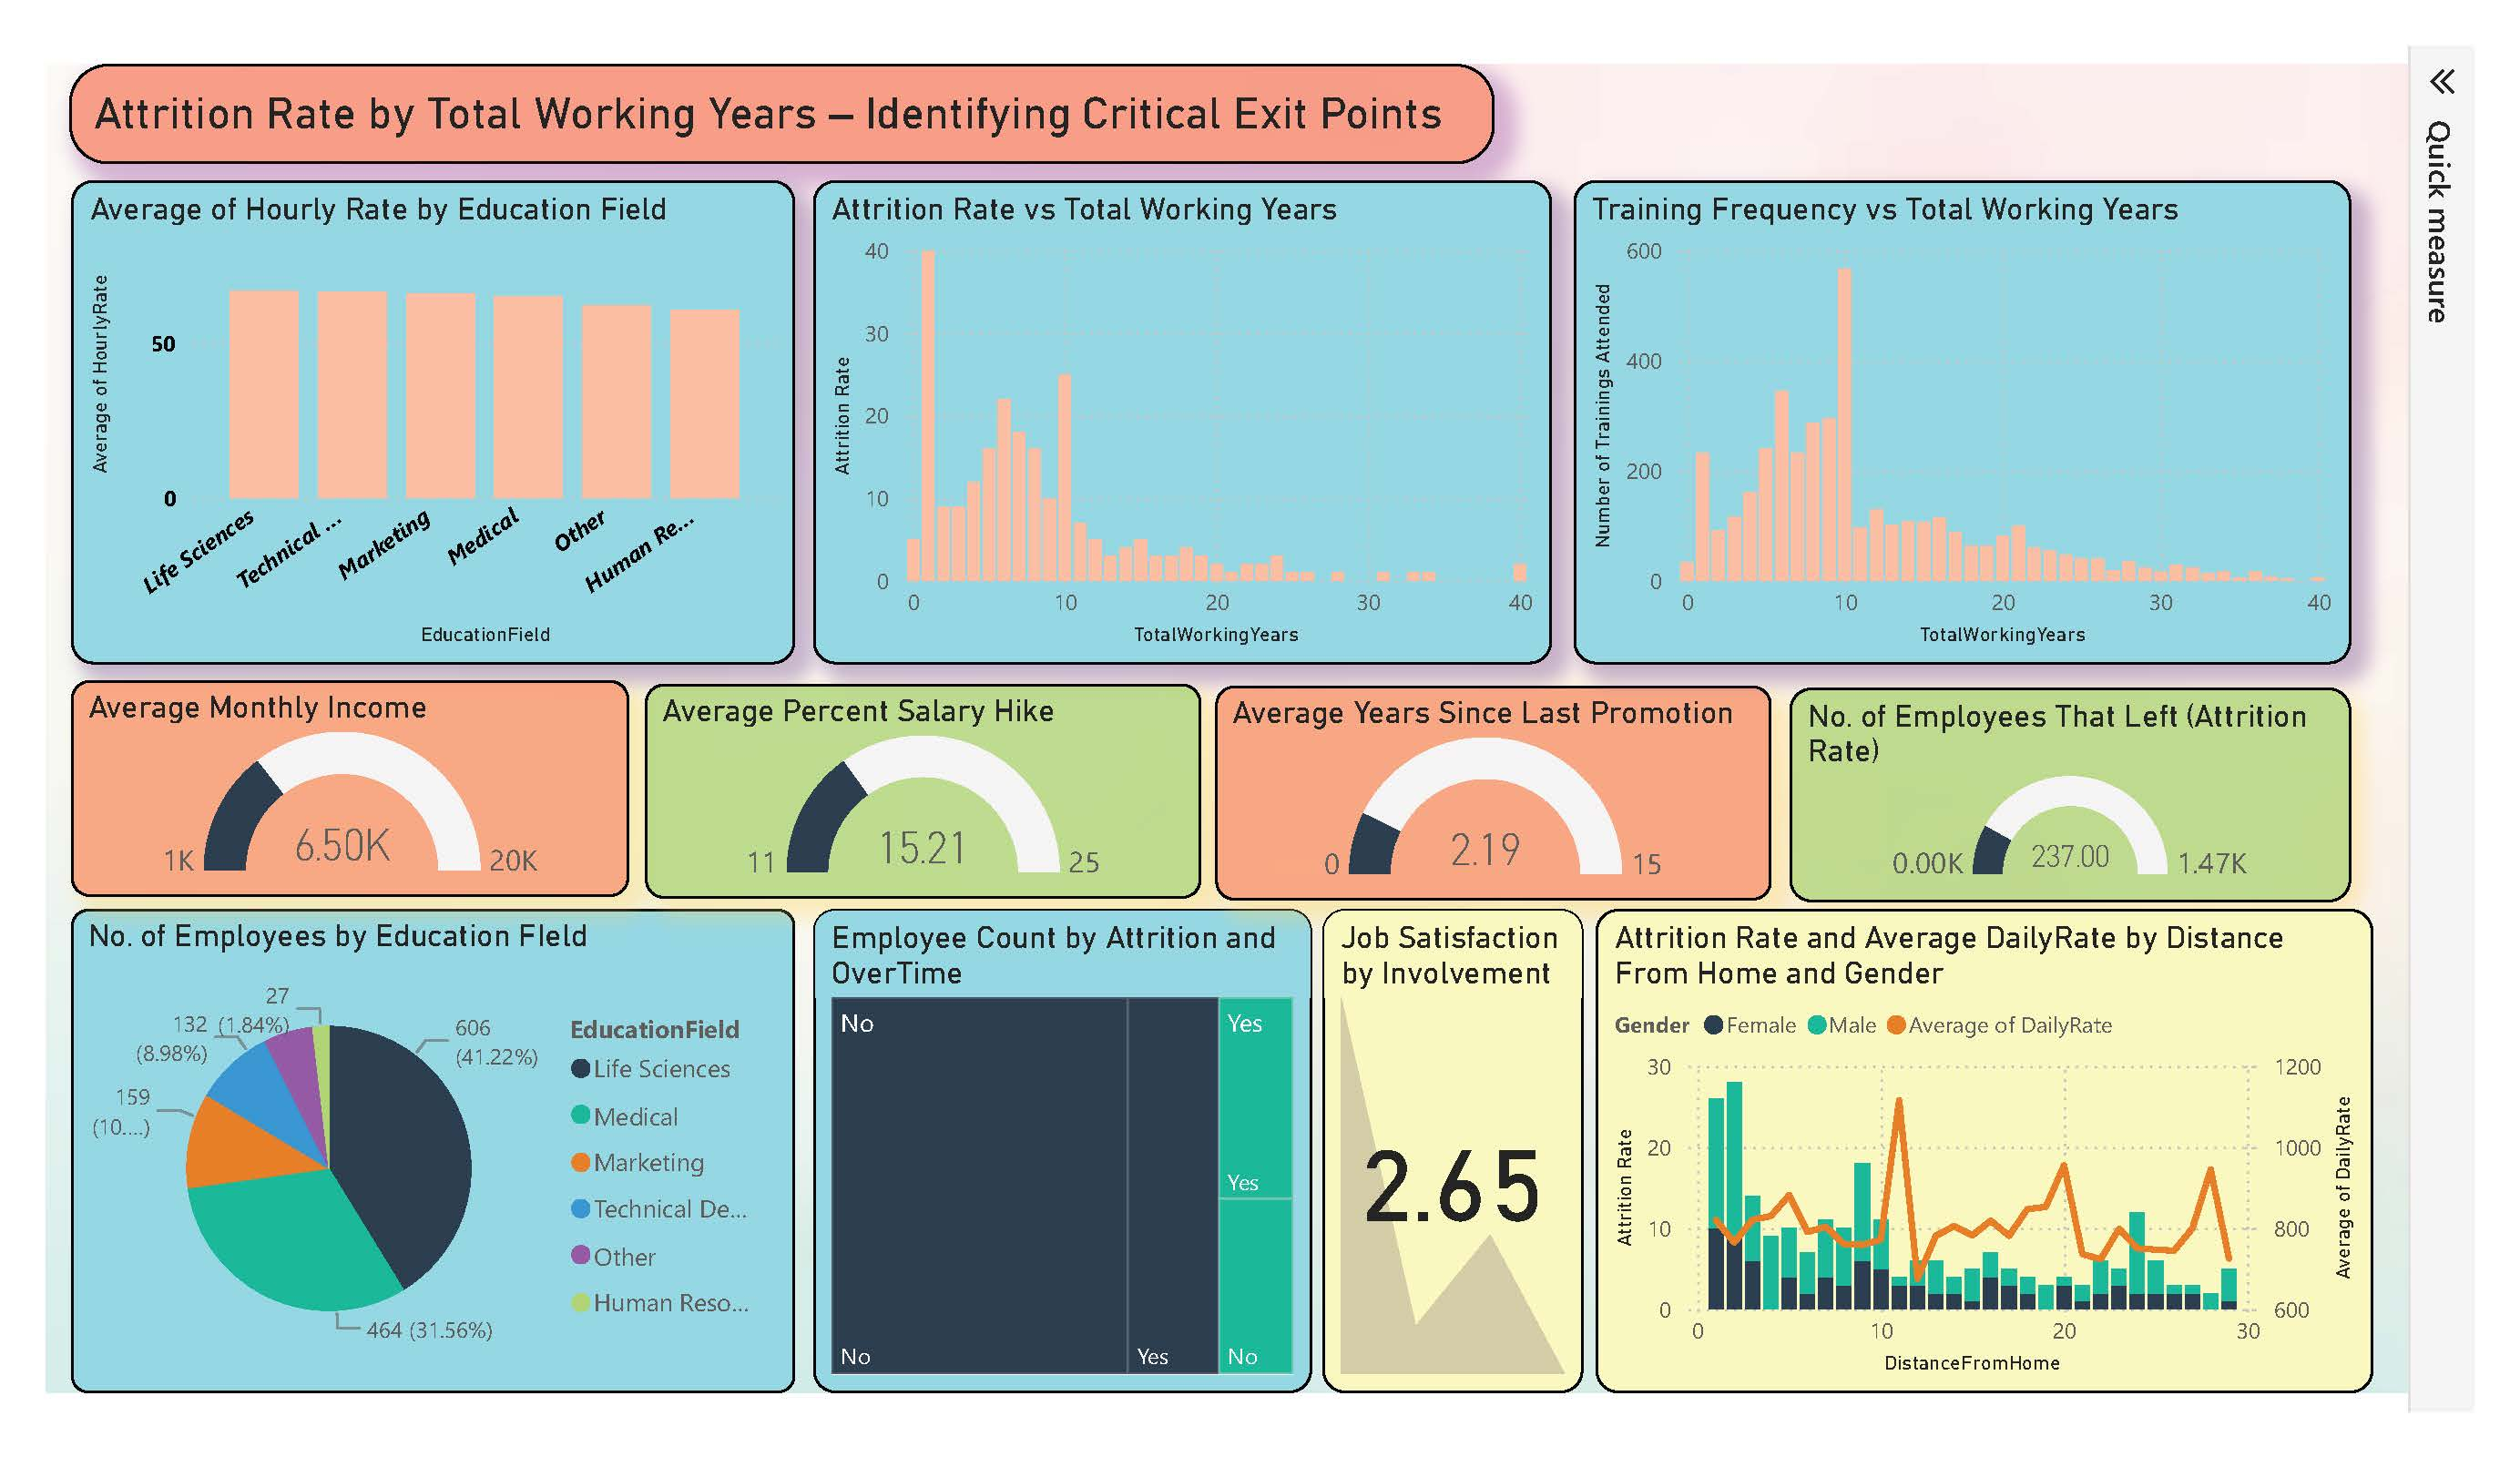

This screenshot's page, from the dashboard's own definition file:
{"tool":"powerbi","page":{"name":"Page 1","canvas":[1280,720],"ordinal":0},"visuals":[{"type":"textbox","box":[13.5,0,771.6,53.8],"z":0},{"type":"columnChart","title":"Average of Hourly Rate by Education Field","fields":{"Category":["Sheet1.EducationField"],"Y":["Avg(Sheet1.HourlyRate)"]},"box":[13.7,63.1,392.5,262.1],"z":1000},{"type":"pieChart","title":"No. of Employees by Education FIeld","fields":{"Category":["Sheet1.EducationField"],"Y":["Sum(Sheet1.EmployeeCount)"]},"box":[13.7,458.3,392.5,262.1],"z":2000},{"type":"clusteredColumnChart","title":"Attrition Rate vs Total Working Years","fields":{"Category":["Sheet1.TotalWorkingYears"],"Y":["Sum(Sheet1.Attrition Rate)"]},"box":[416.2,62.5,400,262.5],"z":3000},{"type":"gauge","title":"Average Monthly Income","fields":{"MinValue":["Min(Sheet1.MonthlyIncome)"],"MaxValue":["Max(Sheet1.MonthlyIncome)1"],"Y":["Avg(Sheet1.MonthlyIncome)2"]},"box":[13.8,333.8,302.5,117.5],"z":4000},{"type":"gauge","title":"Average Percent Salary Hike","fields":{"Y":["Avg(Sheet1.PercentSalaryHike)"],"MinValue":["Min(Sheet1.PercentSalaryHike)1"],"MaxValue":["Max(Sheet1.PercentSalaryHike)2"]},"box":[325.3,336.3,300.8,116.2],"z":5000},{"type":"treemap","title":"Employee Count by Attrition and OverTime","fields":{"Group":["Sheet1.Attrition"],"Details":["Sheet1.OverTime"],"Values":["CountNonNull(Sheet1.Department)"]},"box":[416.2,457.5,270,262.5],"z":6000},{"type":"gauge","title":"Average Years Since Last Promotion","fields":{"Y":["Avg(Sheet1.YearsSinceLastPromotion)"],"MinValue":["Min(Sheet1.YearsSinceLastPromotion)1"],"MaxValue":["Max(Sheet1.YearsSinceLastPromotion)2"]},"box":[634.2,336.7,300.8,115.8],"z":7000},{"type":"columnChart","title":"Training Frequency vs Total Working Years","fields":{"Category":["Sheet1.TotalWorkingYears"],"Y":["Sum(Sheet1.TrainingTimesLastYear)"]},"box":[827.5,62.5,421.2,262.5],"z":8000},{"type":"gauge","title":"No. of Employees That Left (Attrition Rate)","fields":{"Y":["Sum(Sheet1.Attrition Rate)"],"MinValue":["Min(Sheet1.Attrition Rate)"],"MaxValue":["CountNonNull(Sheet1.Attrition Rate)"]},"box":[945,337.5,303.8,116.2],"z":9000},{"type":"lineStackedColumnComboChart","title":"Attrition Rate and Average DailyRate by Distance From Home and Gender","fields":{"Y":["Sum(Sheet1.Attrition Rate)"],"Category":["Sheet1.DistanceFromHome"],"Y2":["Avg(Sheet1.DailyRate)"],"Series":["Sheet1.Gender"]},"box":[840,457.5,421.2,262.5],"z":10000},{"type":"kpi","title":"Job Satisfaction by Involvement","fields":{"Indicator":["Avg(Sheet1.JobSatisfaction)"],"TrendLine":["Sheet1.JobInvolvement"]},"box":[691.5,458.5,141.5,261.5],"z":11000}]}

Visuals, with their boxes in screenshot pixels (x1, y1, x2, y2):
textbox: 58, 46, 1503, 147
"Average of Hourly Rate by Education Field" columnChart: 58, 164, 793, 655
"No. of Employees by Education FIeld" pieChart: 58, 904, 793, 1395
"Attrition Rate vs Total Working Years" clusteredColumnChart: 812, 163, 1561, 655
"Average Monthly Income" gauge: 58, 671, 625, 891
"Average Percent Salary Hike" gauge: 642, 676, 1205, 893
"Employee Count by Attrition and OverTime" treemap: 812, 902, 1318, 1394
"Average Years Since Last Promotion" gauge: 1220, 677, 1784, 893
"Training Frequency vs Total Working Years" columnChart: 1583, 163, 2372, 655
"No. of Employees That Left (Attrition Rate)" gauge: 1802, 678, 2372, 895
"Attrition Rate and Average DailyRate by Distance From Home and Gender" lineStackedColumnComboChart: 1606, 902, 2394, 1394
"Job Satisfaction by Involvement" kpi: 1328, 904, 1593, 1394
